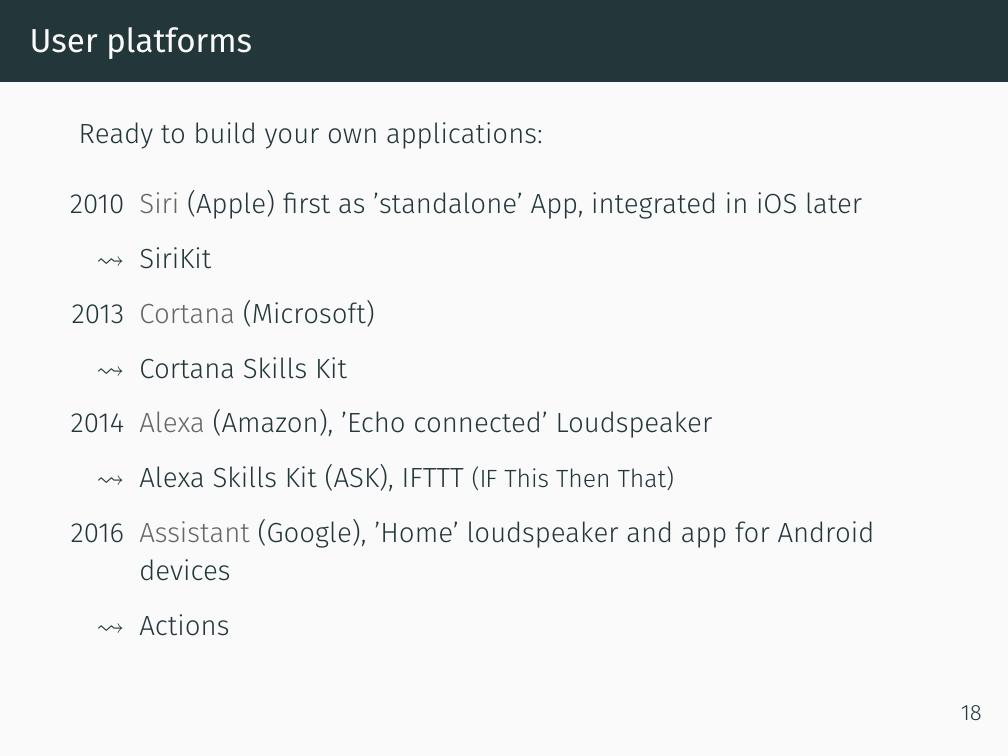Title: (24, 21, 255, 61)
